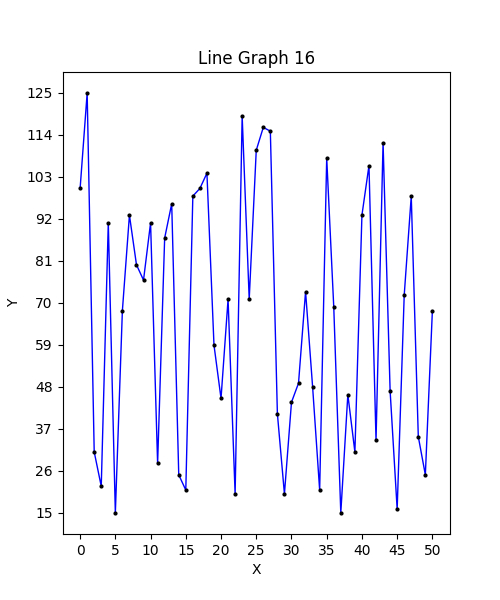cvs: (63, 72, 450, 534)
